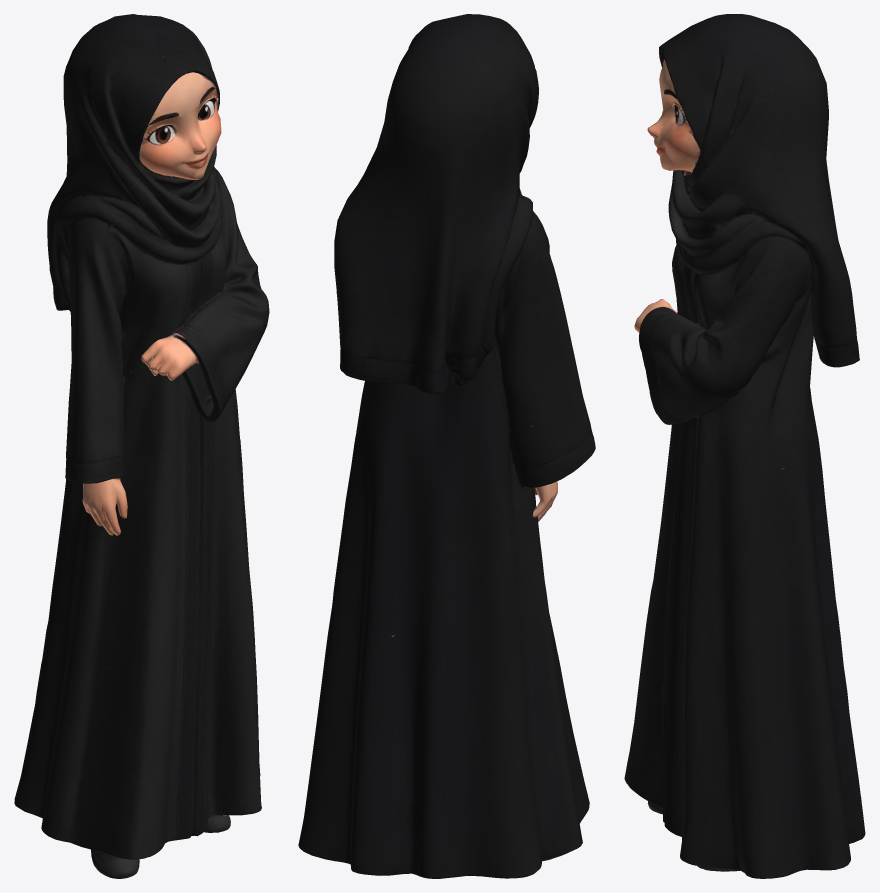
The model's file is midnight_abaya.glb.
3 views of the same model, side by side, from view 1: azimuth 30°, elevation 25°; view 2: azimuth 150°, elevation 25°; view 3: azimuth 270°, elevation 25° (orthographic). The views are drawn at different scales.
Bounding box in the file's own units: 0.5709 × 1.9 × 0.5092.
Materials: 1 (1 with a texture image).
